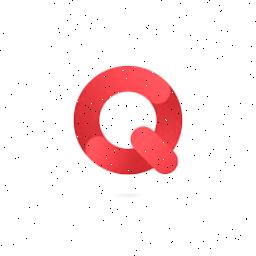q: (66, 57, 186, 179)
